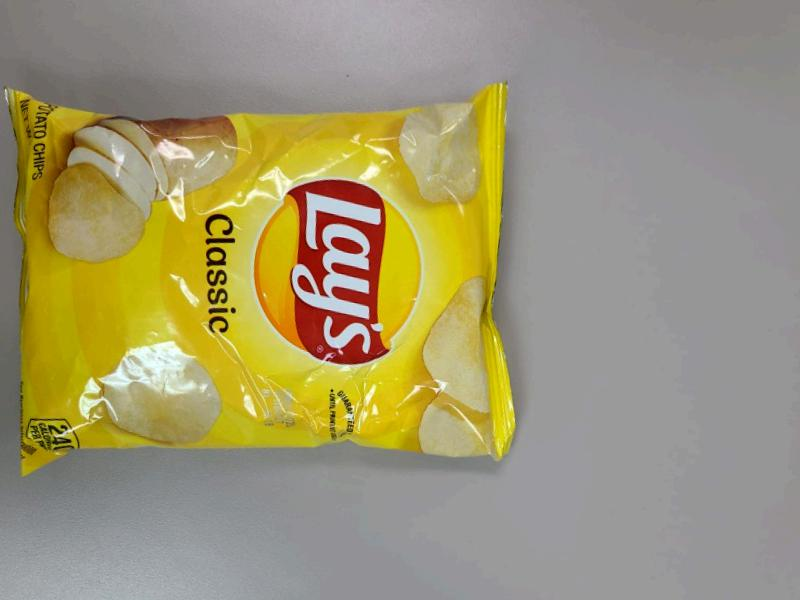lays: (40, 74, 515, 459)
